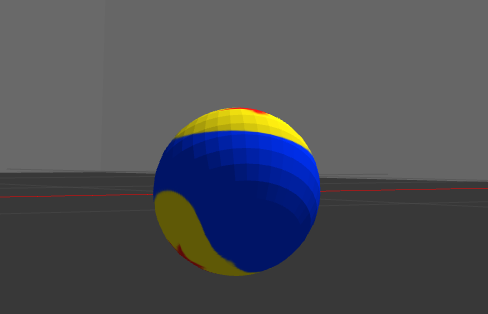toy story ball: (153, 108, 321, 275)
